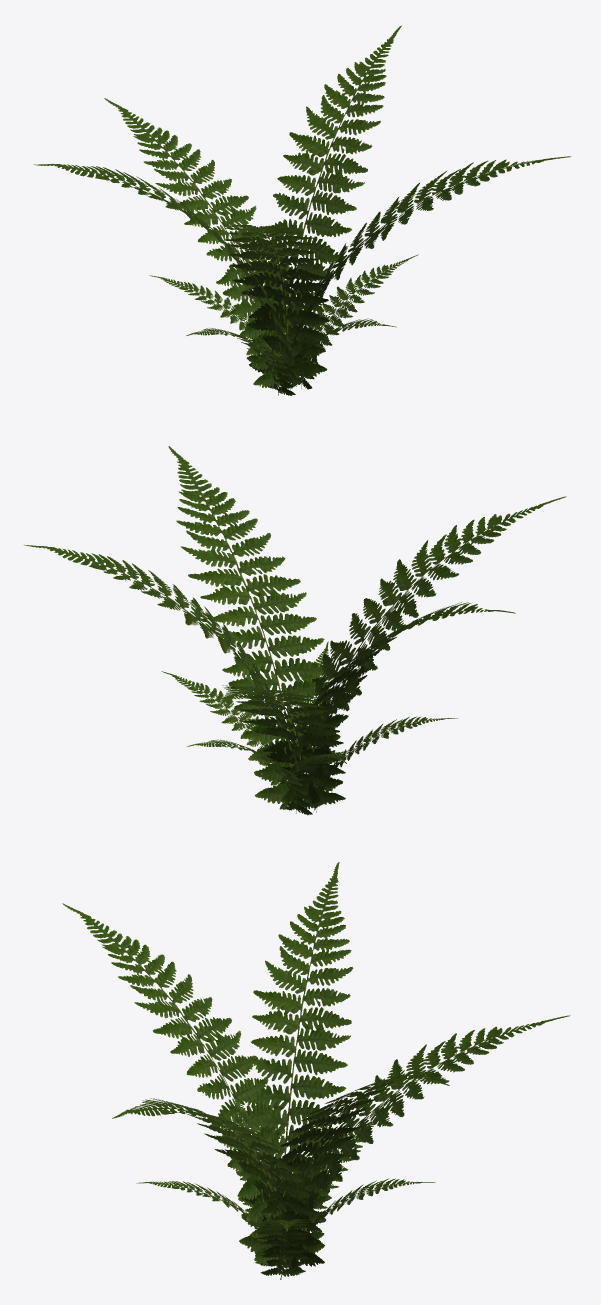
Rendered from fern.glb.
3 views of the same model, one above another, from view 1: azimuth 30°, elevation 25°; view 2: azimuth 150°, elevation 25°; view 3: azimuth 270°, elevation 25° (orthographic). The views are drawn at different scales.
Parts seen in each view (by area): view 1: Plane.012, Plane.022, Plane.024, Plane.025, Plane.023, Plane.026, Plane.028, Plane.029, Plane.030; view 2: Plane.025, Plane.024, Plane.022, Plane.012, Plane.023, Plane.026, Plane.027, Plane.029, Plane.028; view 3: Plane.023, Plane.024, Plane.022, Plane.025, Plane.012, Plane.026, Plane.027, Plane.030.
Boxes of the visible parts, left/top/right/bottom form: Plane.012: left=246, top=25, right=401, bottom=381; Plane.022: left=104, top=98, right=298, bottom=388; Plane.024: left=224, top=225, right=329, bottom=379; Plane.025: left=285, top=156, right=571, bottom=381; Plane.023: left=33, top=163, right=298, bottom=386; Plane.026: left=298, top=254, right=418, bottom=389; Plane.028: left=149, top=275, right=283, bottom=393; Plane.029: left=186, top=328, right=295, bottom=395; Plane.030: left=278, top=318, right=396, bottom=392; Plane.025: left=168, top=446, right=341, bottom=803; Plane.024: left=300, top=496, right=566, bottom=805; Plane.022: left=219, top=685, right=346, bottom=804; Plane.012: left=24, top=544, right=305, bottom=806; Plane.023: left=281, top=601, right=515, bottom=803; Plane.026: left=161, top=671, right=288, bottom=809; Plane.027: left=187, top=739, right=312, bottom=815; Plane.029: left=313, top=716, right=458, bottom=812; Plane.028: left=285, top=751, right=349, bottom=812; Plane.023: left=236, top=862, right=353, bottom=1261; Plane.024: left=62, top=903, right=306, bottom=1265; Plane.022: left=289, top=1015, right=570, bottom=1269; Plane.025: left=112, top=1098, right=324, bottom=1266; Plane.012: left=255, top=1070, right=449, bottom=1262; Plane.026: left=256, top=1219, right=312, bottom=1279; Plane.027: left=286, top=1178, right=435, bottom=1274; Plane.030: left=136, top=1181, right=287, bottom=1275.
Bounding box in the file's own units: 2.67 × 1.38 × 2.47.
Materials: 1 (1 with a texture image).
